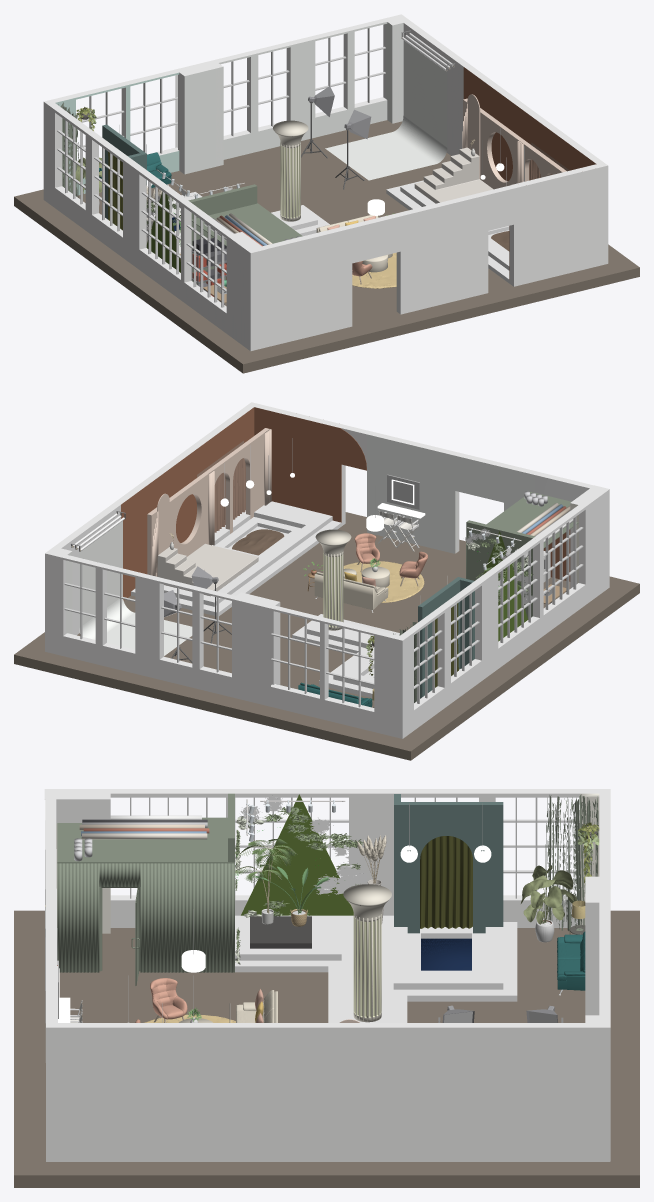
Rendered from etherea-mobile.glb.
The picture shows the model from 3 angles, top to bottom: view 1: azimuth 30°, elevation 25°; view 2: azimuth 150°, elevation 25°; view 3: azimuth 270°, elevation 25°; orthographic projection. The views are drawn at different scales.
Visible parts, largest first — view 1: Cube, Wall_j0slUw0ESQaHlxl3I12E8Q, Cube.062, Studio+BG_izNCRPySQSW3zbnGWBsGWA, Cube.001, Wall_ryM7yGxfT5SOGcNczaVzYQ, Wall_cM6Y5bnYQj6PNu9bwilUNQ, Wall__qiu8B87SZqla0gIePVqBA, Cube.042, New Desert Wall, Stage stairs and landing, Cube.038 (+24 smaller); view 2: Cube, Wall_j0slUw0ESQaHlxl3I12E8Q, Wall_ryM7yGxfT5SOGcNczaVzYQ, Cube.001, Cube.002, Wall_tC4apbOfSQGxfDBpBDDVlA, New Desert Wall, Studio+BG_izNCRPySQSW3zbnGWBsGWA, Cube.042, New Step 2, Wall_xexoBvuBSq6ge_mbJKC2-Q, Stage stairs and landing (+33 smaller); view 3: Cube.001, Cube, Office cladding, Cube.061, Wall_iNl4Zh0ATr2gGKpswnzd6w, Furniture_BY4Y0_DlRIqQSFE0mL3oGA, Cube.063, Office lid, Pool arch curtain, Cube.038, Cube.041, Furniture_3Rr4xGx_T6Wha_DX7qum0g (+21 smaller).
Part boxes in pixels (x1,y1,x2,y2): Cube: [14, 120, 639, 373]; Wall_j0slUw0ESQaHlxl3I12E8Q: [317, 192, 488, 333]; Cube.062: [509, 162, 608, 286]; Studio+BG_izNCRPySQSW3zbnGWBsGWA: [325, 40, 447, 180]; Cube.001: [395, 15, 603, 181]; Wall_ryM7yGxfT5SOGcNczaVzYQ: [211, 18, 388, 159]; Wall_cM6Y5bnYQj6PNu9bwilUNQ: [262, 233, 321, 348]; Wall__qiu8B87SZqla0gIePVqBA: [178, 62, 223, 174]; Cube.042: [55, 186, 228, 334]; New Desert Wall: [463, 98, 566, 189]; Stage stairs and landing: [414, 147, 493, 203]; Cube.038: [123, 158, 146, 266]; Cube: [14, 512, 639, 760]; Wall_j0slUw0ESQaHlxl3I12E8Q: [367, 431, 538, 553]; Wall_ryM7yGxfT5SOGcNczaVzYQ: [59, 555, 237, 697]; Cube.001: [46, 405, 254, 635]; Cube.002: [249, 405, 366, 522]; Wall_tC4apbOfSQGxfDBpBDDVlA: [267, 605, 402, 738]; New Desert Wall: [147, 428, 269, 576]; Studio+BG_izNCRPySQSW3zbnGWBsGWA: [79, 521, 192, 655]; Cube.042: [414, 583, 587, 730]; New Step 2: [164, 501, 332, 606]; Wall_xexoBvuBSq6ge_mbJKC2-Q: [235, 598, 269, 705]; Stage stairs and landing: [157, 543, 258, 596]; Cube.001: [46, 1023, 609, 1161]; Cube: [14, 910, 639, 1187]; Office cladding: [57, 863, 234, 972]; Cube.061: [235, 915, 503, 1022]; Wall_iNl4Zh0ATr2gGKpswnzd6w: [394, 802, 503, 933]; Furniture_BY4Y0_DlRIqQSFE0mL3oGA: [236, 794, 369, 917]; Cube.063: [235, 922, 517, 1022]; Office lid: [57, 817, 234, 863]; Pool arch curtain: [420, 836, 472, 928]; Cube.038: [349, 789, 393, 915]; Cube.041: [110, 789, 579, 797]; Furniture_3Rr4xGx_T6Wha_DX7qum0g: [545, 794, 598, 930].
Size of the model in its own units: 13.55 by 3.64 by 13.55.
